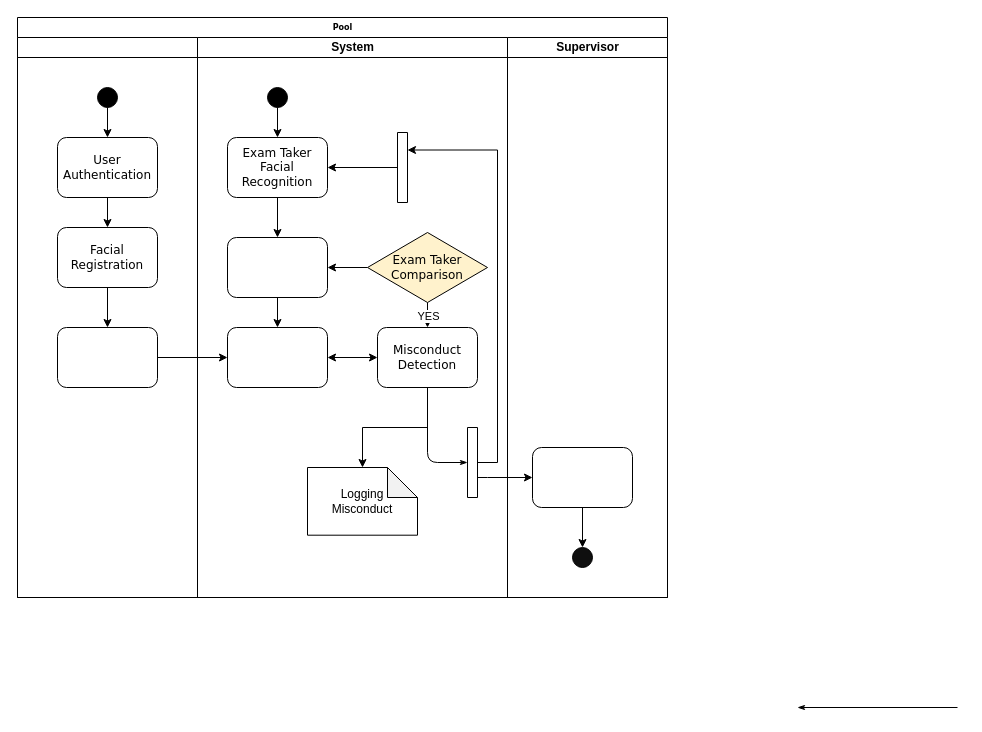
The diagram is 982 pixels wide and 732 high, and some of its shapes have lost their labels. Each missing label, with the box of its shape:
Detection Per-Frame Basis: (226, 236, 328, 298)
Examinee: (16, 36, 198, 598)
Gaze Tracking: (226, 326, 328, 388)
Taking the Exam: (56, 326, 158, 388)
Transmitting Misconduct Logs: (532, 446, 632, 508)
